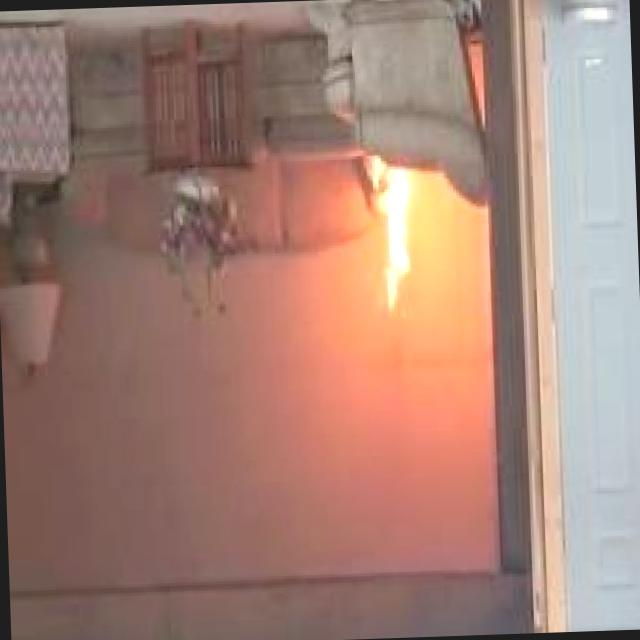fire: (361, 182, 448, 312)
